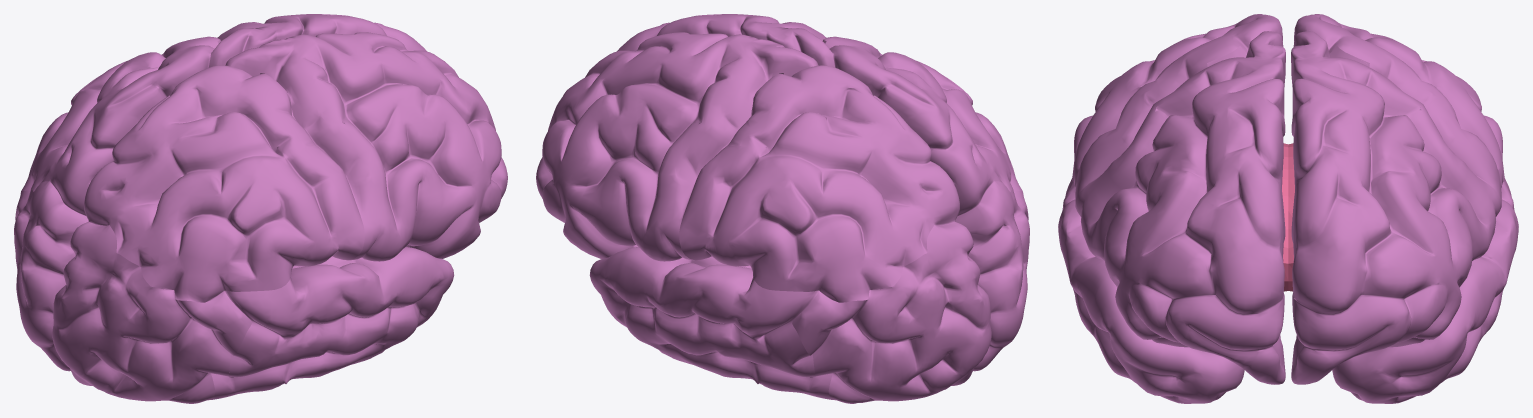
The model's file is brain1.glb.
3 renders of one model, left to right at view 1: azimuth 30°, elevation 25°; view 2: azimuth 150°, elevation 25°; view 3: azimuth 270°, elevation 25°, orthographic. The views are drawn at different scales.
Parts seen in each view (by area): view 1: pariet, frontal, occipit, temp; view 2: pariet, frontal, occipit, temp; view 3: frontal, temp, pariet, corpus.
Part boxes in pixels (x1=…): pariet: x1=21, y1=36, x2=364, y2=302; frontal: x1=209, y1=14, x2=507, y2=261; occipit: x1=14, y1=181, x2=251, y2=403; temp: x1=208, y1=247, x2=454, y2=400; pariet: x1=679, y1=36, x2=1022, y2=302; frontal: x1=536, y1=14, x2=834, y2=261; occipit: x1=792, y1=181, x2=1029, y2=403; temp: x1=589, y1=247, x2=835, y2=400; frontal: x1=1075, y1=31, x2=1501, y2=384; temp: x1=1058, y1=178, x2=1518, y2=403; pariet: x1=1072, y1=14, x2=1504, y2=204; corpus: x1=1282, y1=143, x2=1294, y2=291.
Bounding box in the file's own units: 0.8144 × 0.5315 × 0.6719.
